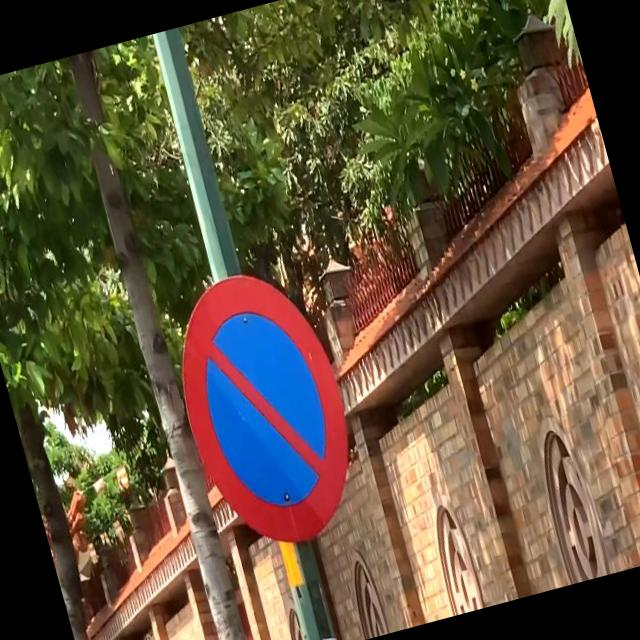P-131a: (156, 256, 372, 558)
